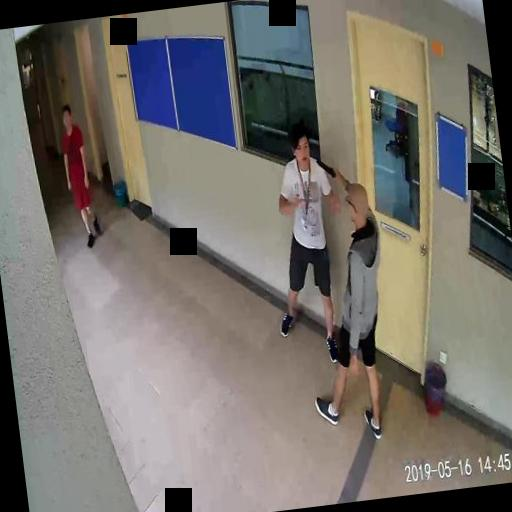Handgun: (312, 153, 344, 184)
